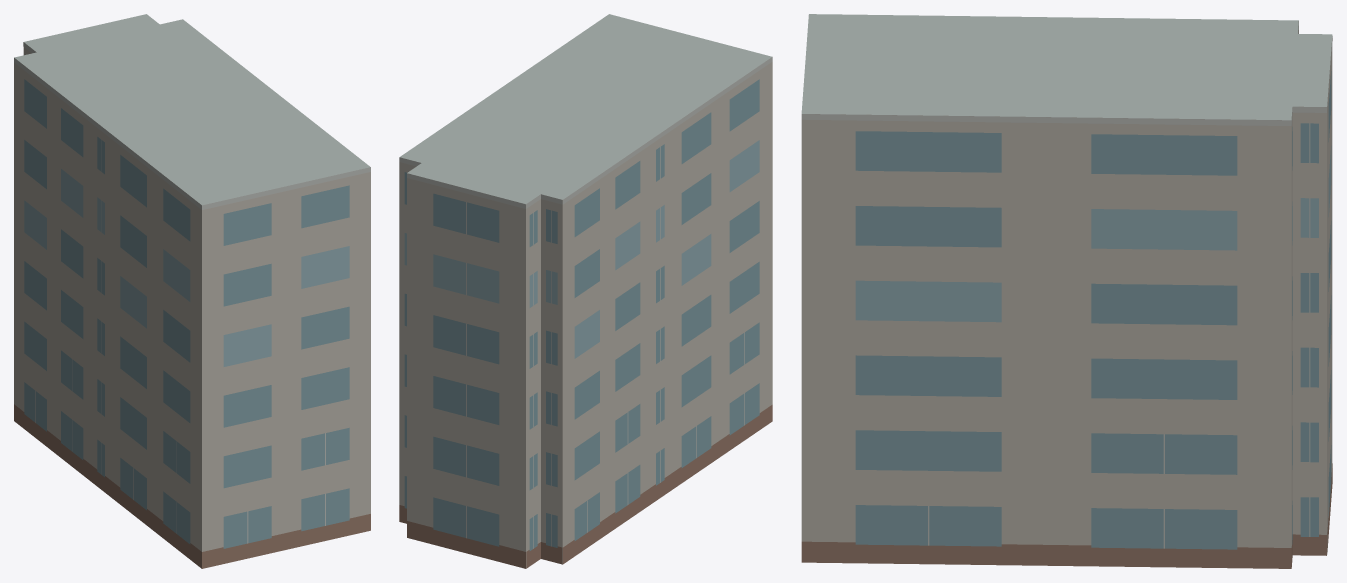
File: survey-upis-33004047.glb
3 views of the same model, side by side, from view 1: azimuth 30°, elevation 25°; view 2: azimuth 150°, elevation 25°; view 3: azimuth 270°, elevation 25° (orthographic). The views are drawn at different scales.
Visible parts, largest first — view 1: survey-upis-33004047.tmp; view 2: survey-upis-33004047.tmp; view 3: survey-upis-33004047.tmp.
Boxes of the visible parts, left/top/right/bottom form: survey-upis-33004047.tmp: left=14, top=14, right=370, bottom=568; survey-upis-33004047.tmp: left=399, top=14, right=772, bottom=568; survey-upis-33004047.tmp: left=801, top=14, right=1332, bottom=568.
Bounding box in the file's own units: 9.46 × 18.6 × 19.96.
